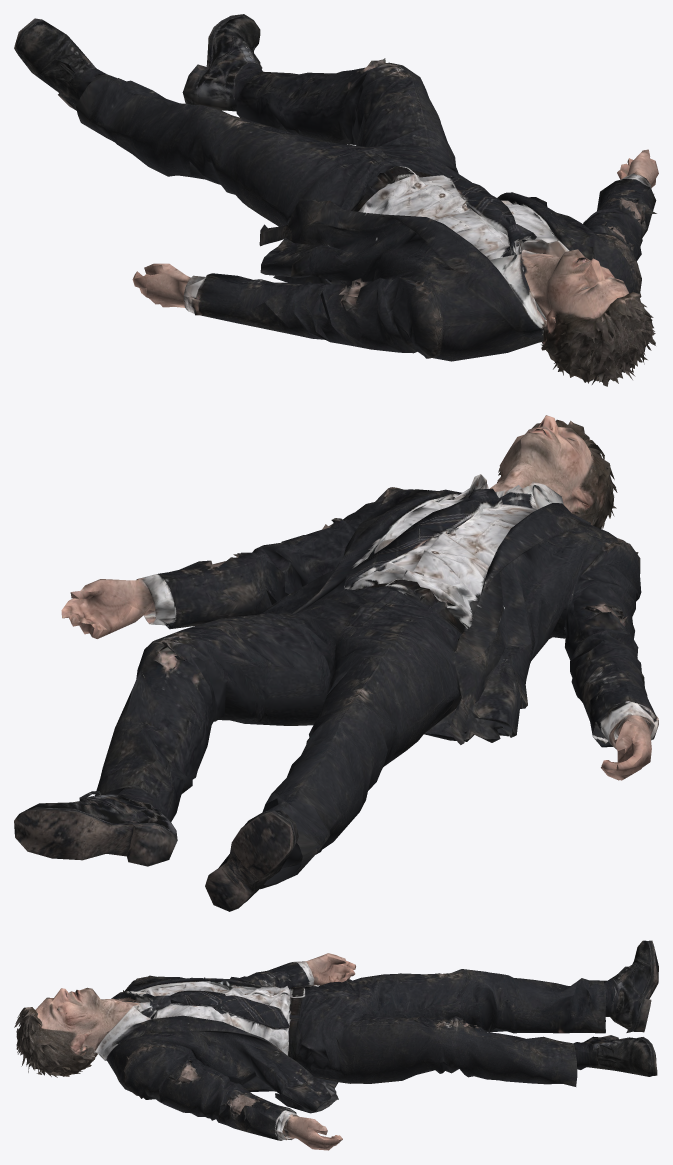
The model's file is corpse3.glb.
The picture shows the model from 3 angles, top to bottom: view 1: azimuth 30°, elevation 25°; view 2: azimuth 150°, elevation 25°; view 3: azimuth 270°, elevation 25°; orthographic projection. The views are drawn at different scales.
Parts seen in each view (by area): view 1: corpse3; view 2: corpse3; view 3: corpse3.
Part boxes in pixels (<box>): corpse3: <box>14,14,658,386</box>; corpse3: <box>14,415,658,911</box>; corpse3: <box>14,940,658,1150</box>.
Size of the model in its own units: 1.26 by 0.2815 by 1.87.
1 material, 1 textured.
